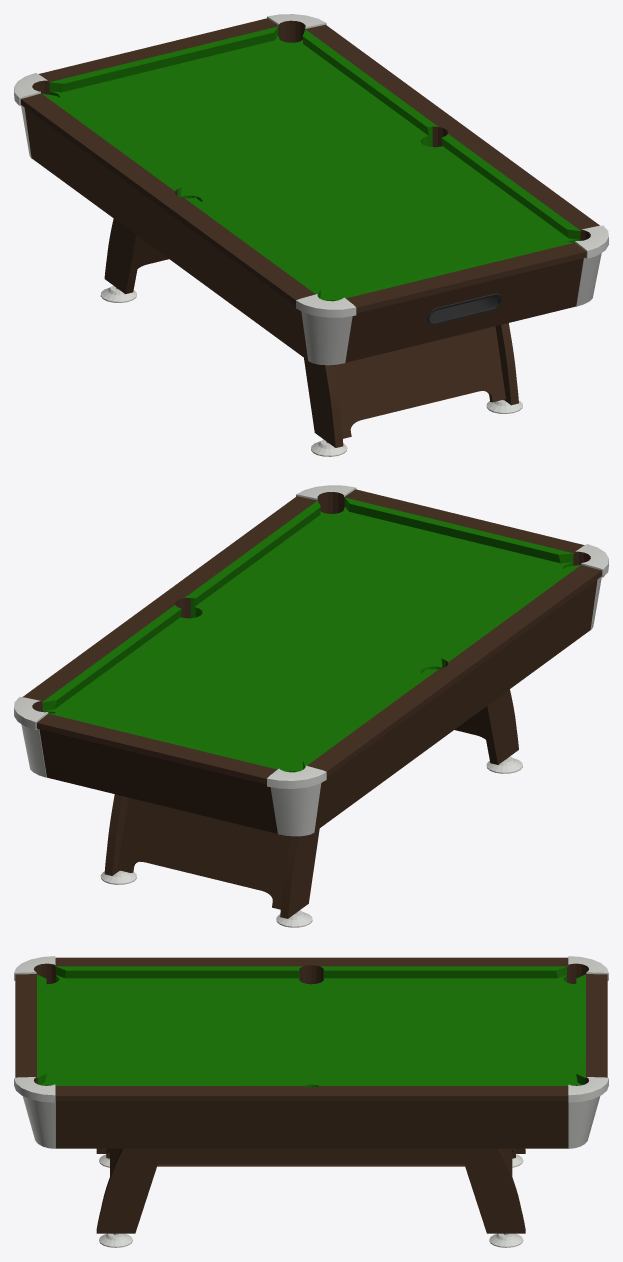
The model's file is billiard_table.glb.
The picture shows the model from 3 angles, top to bottom: view 1: azimuth 30°, elevation 25°; view 2: azimuth 150°, elevation 25°; view 3: azimuth 270°, elevation 25°; orthographic projection. The views are drawn at different scales.
Parts seen in each view (by area): view 1: Tabletop_1, Legs_0; view 2: Tabletop_1, Legs_0; view 3: Tabletop_1, Legs_0.
Part boxes in pixels (x1,y1,x2,y2): Tabletop_1: (14,14,608,365); Legs_0: (100,219,522,456); Tabletop_1: (14,485,608,836); Legs_0: (100,689,522,927); Tabletop_1: (14,956,608,1148); Legs_0: (96,1148,525,1247).
Size of the model in its own units: 1.38 by 0.8168 by 2.5.
